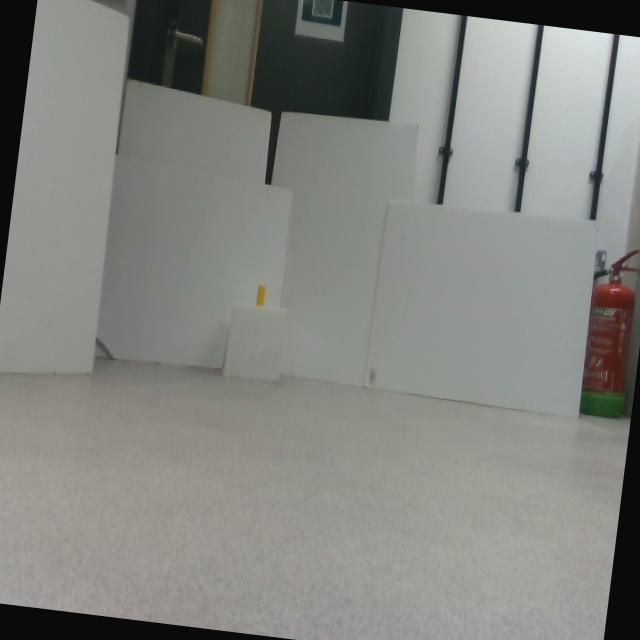yellow_cylinder: (256, 284, 266, 306)
